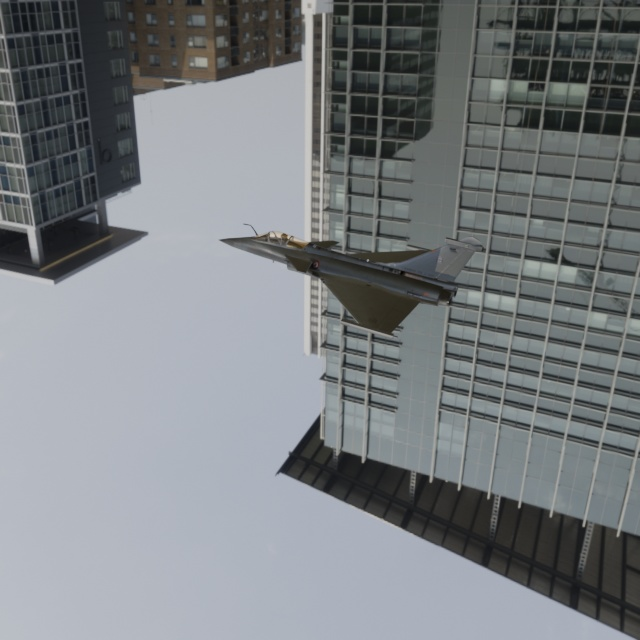dassault_rafale: (166, 161, 506, 363)
